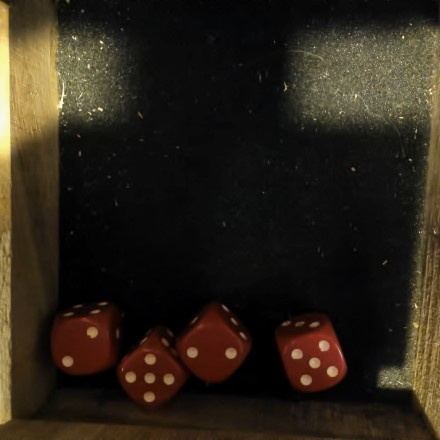red_d6_pip2: (171, 312, 251, 391), (50, 317, 109, 375)
red_d6_pip5: (113, 338, 190, 415), (275, 325, 352, 401)
